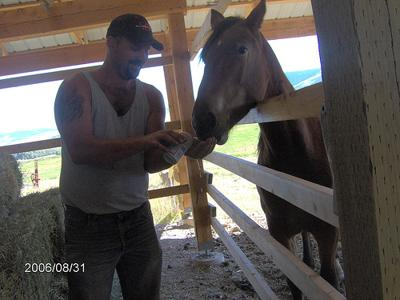person: (55, 12, 217, 300)
